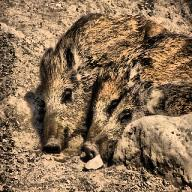boar: (36, 12, 172, 154), (80, 32, 192, 164)
